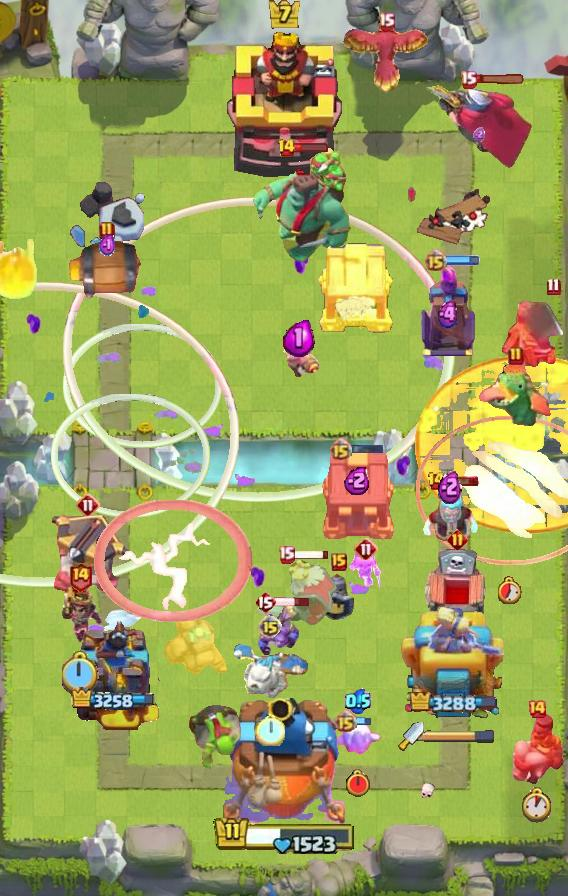bar: (399, 607, 507, 731)
bar-level: (186, 702, 244, 774)
barbarian-evolution: (94, 500, 252, 622)
bomb: (316, 240, 396, 334), (317, 448, 397, 542)
bomber-evolution: (57, 585, 103, 645)
clock: (213, 814, 355, 855)
electro-spirit: (283, 318, 315, 357), (438, 468, 462, 504), (345, 465, 372, 495), (434, 299, 461, 328), (345, 688, 371, 714), (99, 234, 117, 259), (473, 127, 485, 142)
electro-wizard: (476, 357, 556, 429)
elite-barbarian: (507, 711, 567, 785)
elixir: (61, 651, 99, 693), (520, 787, 554, 823), (255, 714, 285, 746), (345, 770, 371, 798), (498, 576, 522, 604)
elixir-golem-mid: (422, 548, 492, 634)
emote: (474, 75, 526, 86), (274, 596, 311, 608), (443, 475, 479, 487), (294, 549, 331, 560), (293, 143, 329, 154), (444, 255, 480, 266), (348, 444, 383, 455), (354, 715, 372, 727)
goblin: (348, 549, 384, 589)
golden-knight: (340, 20, 432, 94)
ice-spirit-evolution-symbol: (418, 266, 478, 358)
ice-wizard: (416, 415, 568, 565)
king-tower: (224, 29, 344, 181), (223, 698, 345, 826)
king-tower-bar: (424, 729, 496, 743)
lava-hound: (250, 146, 354, 268)
lava-pup: (47, 515, 129, 595)
mini-pekka: (230, 641, 310, 701)
mirror: (333, 720, 383, 758)
mortar: (419, 483, 481, 547)
mortar-evolution: (257, 557, 339, 627)
phoenix-egg: (416, 356, 568, 534)
princess: (317, 568, 361, 624)
queen-tower: (66, 617, 162, 731)
royal-delivery: (257, 602, 301, 658)
royal-giant-evolution: (500, 301, 568, 371)
selected: (71, 687, 157, 713), (411, 692, 498, 715)
text: (67, 560, 92, 591), (76, 493, 100, 517), (354, 537, 378, 561), (258, 615, 282, 639), (329, 438, 352, 462), (425, 249, 448, 272), (335, 711, 358, 734), (254, 590, 276, 614), (447, 530, 469, 551), (276, 138, 296, 158), (527, 699, 547, 719), (427, 471, 446, 491), (277, 545, 295, 564), (377, 13, 394, 32), (460, 71, 477, 90), (99, 221, 115, 241), (508, 346, 524, 366), (331, 553, 347, 571), (547, 276, 561, 295)
the-log: (67, 241, 147, 301)
tombstone: (280, 341, 320, 383)
valkyrie: (0, 233, 40, 303)
valkyrie-evolution: (165, 619, 231, 681)
wall-breaker-evolution: (423, 83, 535, 171)
